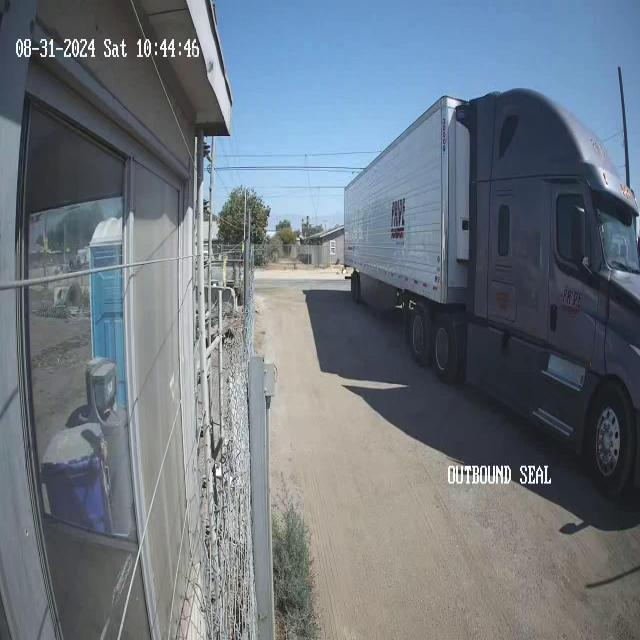TRUCK_CONTAINER: (343, 83, 640, 487)
